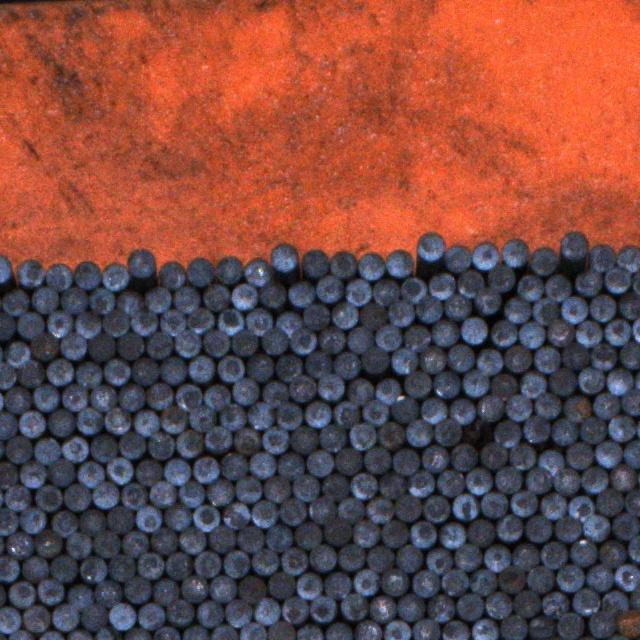tool: (17, 258, 47, 287), (559, 230, 588, 260), (184, 257, 213, 286), (385, 249, 414, 278), (473, 239, 501, 269), (416, 231, 444, 261), (246, 257, 274, 287), (74, 261, 102, 290), (215, 256, 243, 285), (270, 242, 298, 271), (157, 261, 185, 290), (588, 244, 617, 272), (529, 247, 557, 276), (102, 263, 130, 292), (128, 249, 156, 278), (446, 344, 474, 372), (444, 292, 472, 320), (504, 344, 532, 372), (444, 243, 472, 271), (236, 574, 264, 602), (496, 564, 524, 592), (290, 427, 318, 455), (502, 237, 529, 266), (34, 527, 61, 556), (292, 474, 319, 502), (497, 514, 524, 542), (46, 358, 74, 385), (560, 295, 588, 322), (173, 383, 200, 411), (6, 532, 33, 560), (165, 598, 192, 626), (481, 442, 508, 470), (165, 552, 192, 580), (93, 529, 120, 557), (331, 251, 358, 279), (31, 285, 58, 313), (456, 270, 483, 298), (16, 312, 44, 339), (174, 429, 202, 456), (494, 465, 522, 492), (348, 422, 375, 450), (460, 369, 488, 396), (204, 479, 232, 506), (161, 406, 188, 434), (0, 288, 28, 315), (414, 294, 441, 322), (248, 402, 275, 430), (344, 278, 371, 306), (163, 456, 190, 484), (4, 385, 31, 413), (146, 331, 173, 359), (592, 392, 619, 420), (105, 506, 132, 534), (605, 266, 632, 294), (545, 274, 572, 302), (305, 350, 332, 378), (325, 516, 352, 544), (604, 318, 632, 345), (490, 320, 517, 348), (30, 332, 57, 360), (375, 376, 402, 404), (607, 367, 634, 395), (362, 345, 390, 372), (216, 308, 243, 336), (532, 344, 559, 372), (494, 420, 522, 447), (233, 426, 260, 454), (3, 340, 30, 368), (555, 565, 582, 592), (223, 551, 250, 578), (202, 284, 229, 311), (532, 296, 559, 323), (47, 459, 74, 486), (511, 542, 538, 569), (525, 565, 552, 592), (423, 495, 450, 522), (309, 545, 336, 572), (599, 540, 626, 567), (405, 420, 432, 447), (381, 568, 408, 595), (90, 383, 117, 410), (105, 457, 132, 484), (177, 525, 204, 552), (390, 395, 417, 422), (540, 541, 567, 568), (319, 374, 346, 401), (23, 604, 50, 631), (149, 527, 176, 554), (366, 497, 393, 524), (77, 460, 104, 487), (150, 480, 177, 507), (449, 444, 476, 471), (588, 294, 615, 321), (293, 522, 320, 549), (159, 356, 186, 383), (263, 476, 290, 503), (208, 525, 235, 552), (115, 334, 142, 361), (557, 613, 584, 640), (607, 414, 634, 441), (505, 393, 532, 420), (476, 393, 503, 420), (222, 501, 249, 528), (160, 308, 187, 335), (359, 303, 386, 330), (333, 401, 360, 428), (366, 544, 393, 571), (610, 463, 637, 490), (364, 446, 391, 473), (487, 265, 514, 292), (203, 384, 230, 411), (575, 268, 602, 295), (90, 435, 117, 462), (248, 353, 275, 380), (541, 592, 568, 619), (547, 319, 574, 346), (320, 474, 347, 501), (225, 599, 251, 627), (410, 520, 436, 548), (465, 466, 491, 494), (262, 425, 288, 453), (252, 597, 278, 625), (302, 248, 328, 276), (484, 590, 510, 618), (342, 592, 368, 620), (46, 310, 72, 338), (31, 383, 57, 411), (17, 359, 43, 387), (36, 579, 64, 605), (290, 326, 316, 354), (247, 308, 273, 336), (359, 252, 385, 280), (148, 432, 174, 460), (280, 595, 306, 623), (219, 452, 245, 480), (61, 383, 87, 411), (422, 445, 448, 473), (60, 332, 86, 360), (427, 594, 453, 622), (308, 497, 336, 523), (370, 594, 396, 622), (552, 466, 578, 494), (202, 330, 228, 358), (483, 544, 509, 572), (318, 425, 344, 453), (566, 442, 592, 470), (131, 358, 157, 386), (250, 499, 276, 527), (48, 408, 74, 436), (378, 421, 404, 449), (133, 408, 159, 436), (306, 448, 332, 476), (612, 514, 640, 540), (582, 514, 608, 542), (550, 368, 576, 396), (90, 286, 116, 314), (88, 333, 114, 361), (418, 344, 444, 372), (520, 370, 546, 398), (523, 414, 549, 442), (562, 396, 590, 422), (560, 342, 588, 368), (476, 286, 502, 314), (462, 316, 488, 343), (192, 456, 218, 483), (137, 553, 163, 580), (316, 275, 342, 302), (279, 548, 305, 575), (249, 451, 276, 477), (435, 419, 461, 446), (387, 300, 413, 327), (220, 403, 246, 430), (208, 574, 234, 601), (407, 469, 433, 496), (180, 574, 206, 601), (268, 570, 294, 597), (187, 354, 213, 381), (404, 371, 430, 398), (525, 516, 552, 542), (374, 324, 400, 351), (480, 491, 507, 517), (349, 472, 375, 499), (62, 484, 88, 511), (398, 594, 425, 620), (107, 554, 133, 581), (582, 465, 608, 492), (436, 470, 463, 496), (136, 504, 162, 531), (570, 539, 596, 566), (278, 497, 304, 524), (187, 406, 214, 432), (310, 595, 336, 622), (470, 569, 496, 596), (432, 319, 458, 346), (430, 271, 456, 298), (594, 440, 620, 467), (236, 525, 262, 552), (265, 524, 291, 551), (6, 437, 32, 464), (104, 407, 130, 434), (334, 447, 360, 474), (174, 331, 200, 358), (455, 592, 481, 619), (595, 487, 621, 514), (8, 582, 35, 608), (124, 575, 150, 602), (61, 286, 87, 313), (413, 569, 439, 596), (92, 482, 119, 508), (80, 555, 106, 582), (120, 431, 146, 458), (614, 562, 640, 589), (60, 437, 87, 463), (52, 603, 78, 630), (76, 408, 102, 435), (94, 581, 120, 608), (510, 443, 536, 470), (232, 329, 258, 356), (391, 448, 418, 474), (432, 372, 459, 398), (74, 313, 100, 340), (400, 275, 426, 302), (35, 484, 61, 511), (586, 565, 612, 592), (103, 309, 129, 336), (505, 296, 532, 322), (513, 590, 539, 617), (574, 587, 600, 614), (172, 285, 198, 312), (51, 554, 78, 580), (466, 520, 492, 547), (518, 273, 544, 300), (580, 417, 606, 444), (52, 511, 78, 538), (340, 542, 366, 569), (332, 302, 358, 329), (518, 320, 544, 347), (334, 350, 360, 377), (352, 520, 378, 547), (476, 348, 503, 374), (361, 398, 387, 425), (395, 493, 421, 520), (143, 286, 170, 312), (325, 571, 351, 598), (590, 344, 616, 371), (288, 374, 314, 401), (32, 438, 58, 465), (276, 403, 302, 430), (81, 603, 108, 629), (218, 354, 244, 381), (373, 277, 399, 304), (286, 279, 313, 305), (276, 354, 302, 381), (404, 325, 431, 351), (489, 374, 516, 400), (297, 572, 322, 600), (19, 410, 44, 438), (47, 263, 72, 291), (600, 590, 628, 615), (20, 508, 46, 534), (109, 602, 135, 628), (102, 358, 128, 384), (235, 477, 261, 503), (304, 400, 330, 426), (192, 504, 218, 530), (555, 516, 581, 542), (453, 544, 479, 570), (512, 490, 538, 516), (6, 485, 32, 511), (250, 550, 276, 576), (194, 551, 220, 577), (319, 326, 345, 352), (441, 570, 467, 596), (22, 556, 48, 582), (232, 378, 258, 404), (231, 284, 257, 310), (338, 497, 364, 523), (122, 529, 148, 555), (77, 362, 103, 388), (138, 602, 164, 628), (302, 304, 328, 330), (147, 383, 173, 409), (164, 505, 190, 531), (121, 483, 147, 509), (422, 398, 448, 424), (578, 368, 604, 394), (276, 453, 302, 479), (153, 579, 179, 605), (348, 379, 374, 405), (78, 509, 104, 535), (439, 522, 465, 548), (576, 320, 602, 346), (135, 458, 161, 484), (533, 393, 559, 419), (67, 584, 93, 610), (588, 612, 614, 638), (376, 473, 402, 499), (448, 397, 474, 423), (539, 450, 565, 476), (551, 418, 577, 444), (186, 308, 212, 334), (205, 425, 231, 451), (276, 310, 302, 336), (500, 615, 527, 640), (381, 520, 406, 547), (21, 460, 46, 487), (119, 384, 144, 411), (391, 346, 416, 373), (452, 493, 477, 520), (130, 309, 157, 334), (617, 244, 640, 273), (396, 544, 421, 570), (352, 568, 377, 594), (65, 533, 90, 559), (197, 600, 222, 626), (347, 328, 372, 354), (178, 482, 203, 508), (263, 328, 288, 354), (263, 381, 288, 407), (260, 282, 286, 307), (617, 608, 640, 636), (427, 549, 452, 574), (568, 496, 593, 521), (542, 494, 566, 520), (528, 616, 554, 640), (526, 466, 550, 492), (115, 290, 141, 314), (619, 340, 640, 368), (414, 619, 441, 640), (619, 291, 640, 318), (354, 619, 380, 640), (472, 619, 498, 640), (383, 620, 410, 640), (0, 605, 20, 632), (442, 620, 469, 640), (268, 620, 295, 640), (621, 388, 640, 415), (0, 555, 18, 582), (0, 461, 18, 487), (240, 622, 266, 640), (326, 622, 352, 640), (624, 439, 640, 468), (0, 507, 16, 535), (0, 362, 16, 390), (0, 411, 16, 438), (297, 624, 324, 640), (210, 624, 236, 640), (625, 489, 640, 516), (0, 312, 14, 340), (0, 254, 13, 284), (183, 626, 209, 640), (628, 534, 640, 563), (154, 627, 180, 640), (125, 627, 151, 640), (96, 627, 121, 640), (7, 629, 34, 640), (66, 629, 92, 640), (629, 586, 640, 611), (38, 630, 64, 640), (631, 317, 640, 344), (632, 268, 640, 294), (602, 634, 629, 640), (634, 368, 640, 395), (0, 583, 5, 610), (0, 630, 8, 640)
